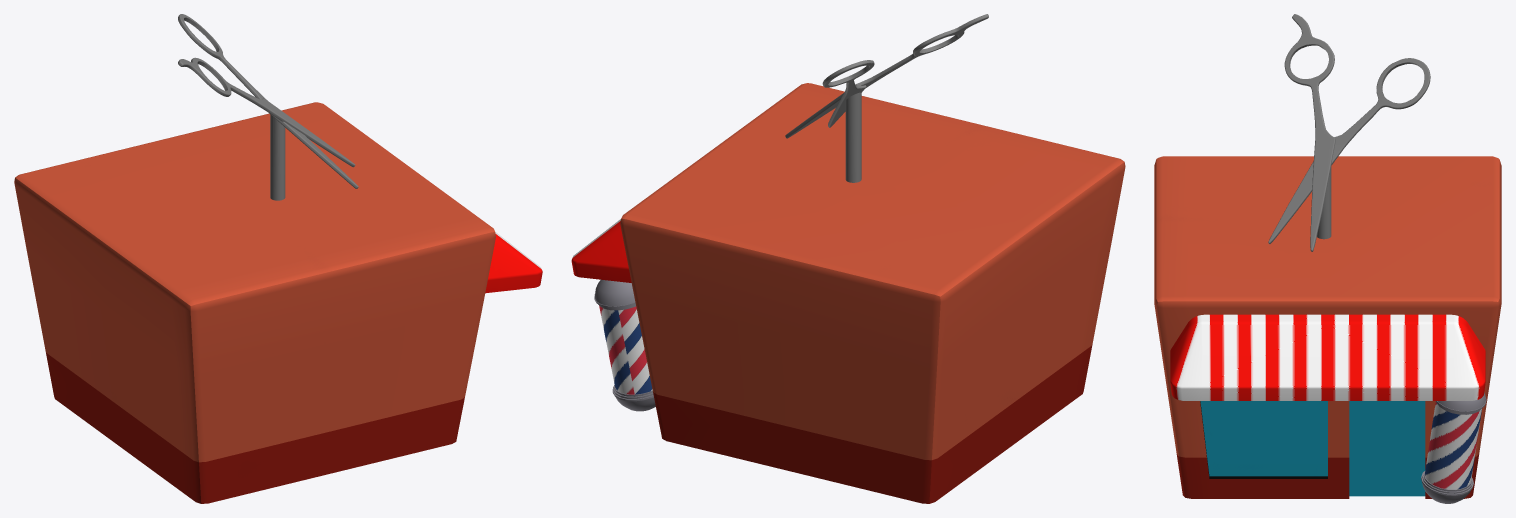
File: BarberShop.fbx
3 renders of one model, left to right at view 1: azimuth 30°, elevation 25°; view 2: azimuth 150°, elevation 25°; view 3: azimuth 270°, elevation 25°, orthographic. The views are drawn at different scales.
Visible parts, largest first — view 1: Barber_Shop_Base, Barber_Shop_Cover; view 2: Barber_Shop_Base, Barber_Pole, Barber_Shop_Cover; view 3: Barber_Shop_Base, Barber_Shop_Cover, Barber_Pole.
Part boxes in pixels (bbox=[...]): Barber_Shop_Base: bbox=[14, 14, 495, 503]; Barber_Shop_Cover: bbox=[485, 232, 542, 293]; Barber_Shop_Base: bbox=[620, 14, 1125, 503]; Barber_Pole: bbox=[594, 279, 655, 411]; Barber_Shop_Cover: bbox=[571, 219, 631, 282]; Barber_Shop_Base: bbox=[1154, 14, 1501, 498]; Barber_Shop_Cover: bbox=[1170, 314, 1485, 400]; Barber_Pole: bbox=[1421, 392, 1486, 503].
Bounding box in the file's own units: 7.04 × 7.2 × 5.96.
Materials: 4 (3 with a texture image).
